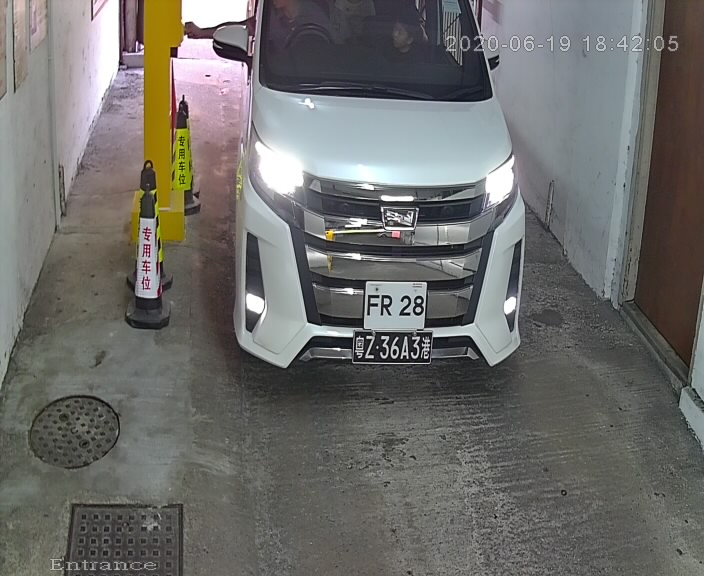privatecar: (195, 3, 542, 384)
